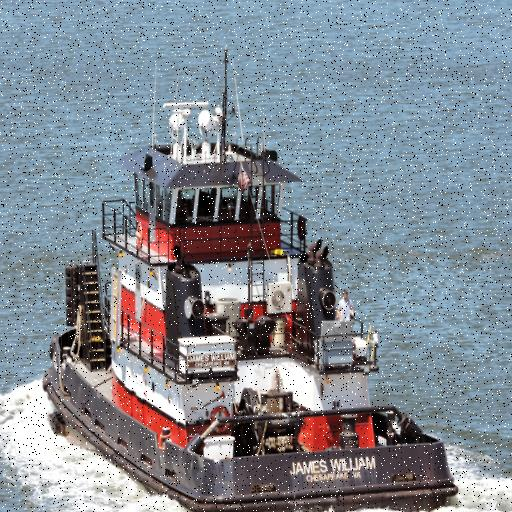tugboat: (39, 43, 463, 512)
